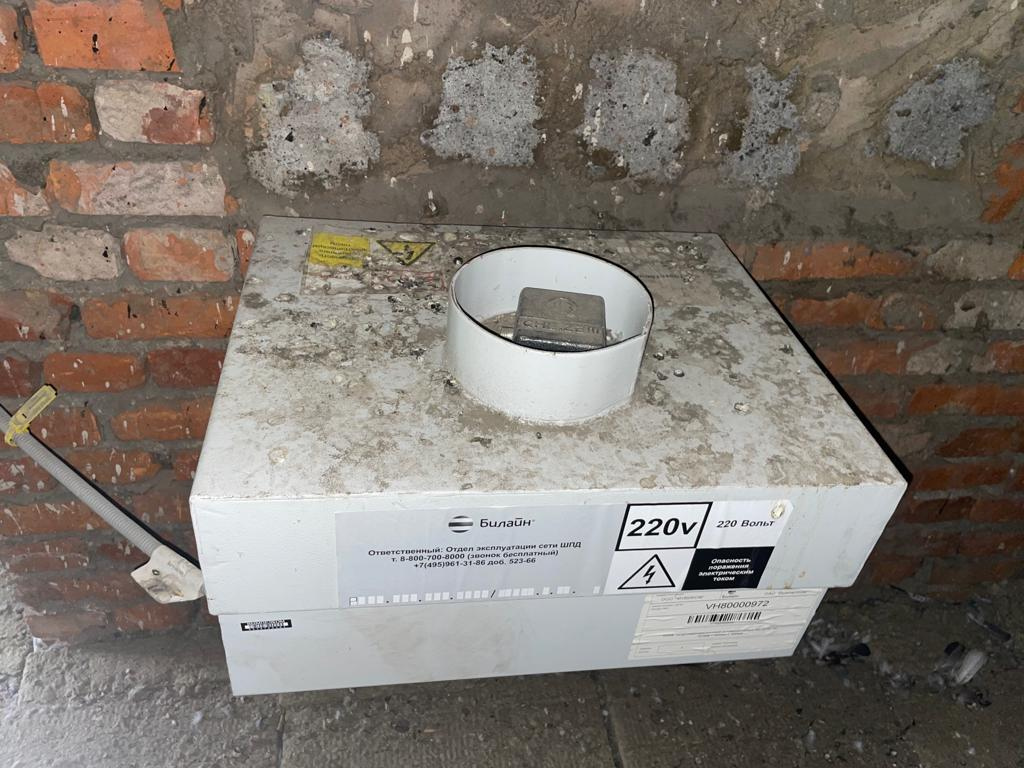shta-ps: (183, 204, 916, 709)
